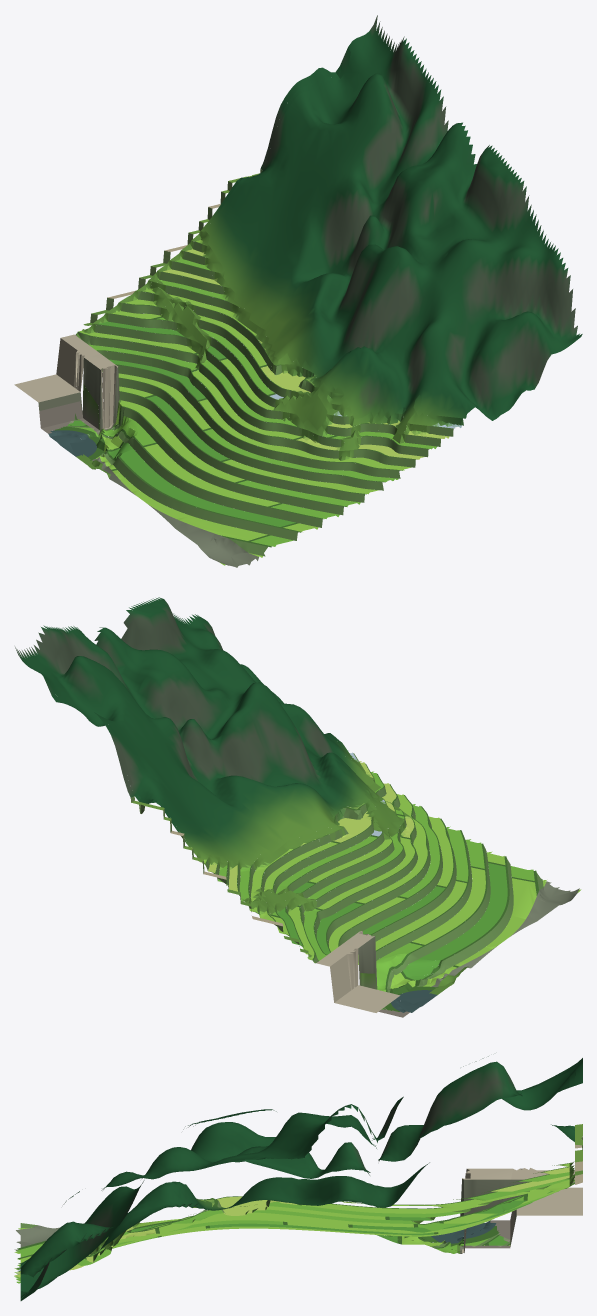
The model's file is payo_land_xm1_y0_lod1.glb.
3 views of the same model, one above another, from view 1: azimuth 30°, elevation 25°; view 2: azimuth 150°, elevation 25°; view 3: azimuth 270°, elevation 25° (orthographic). The views are drawn at different scales.
Parts seen in each view (by area): view 1: payo_land_xm1_y0; view 2: payo_land_xm1_y0; view 3: payo_land_xm1_y0.
Boxes of the visible parts, box(x1,y1,x2,y2) form: payo_land_xm1_y0: box(14, 15, 582, 567); payo_land_xm1_y0: box(15, 597, 581, 1017); payo_land_xm1_y0: box(14, 1056, 582, 1300).
Size of the model in its own units: 258 by 214 by 258.
